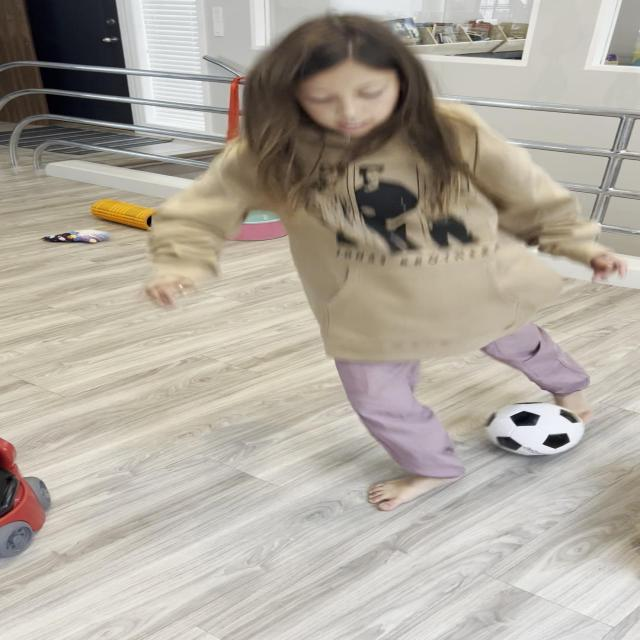Soccer Ball: (485, 402, 585, 456)
